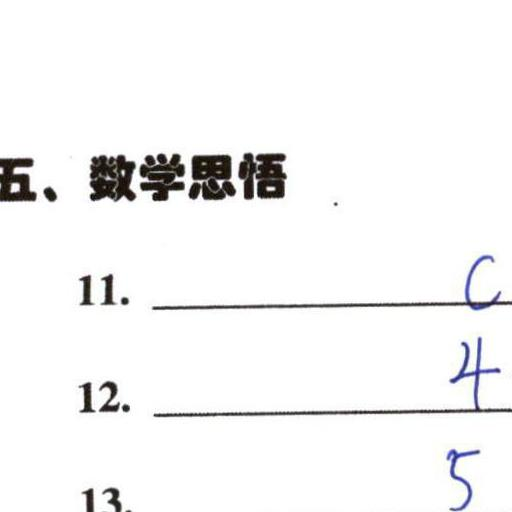ans: (443, 329, 500, 409), (436, 437, 480, 512), (456, 247, 504, 312)
